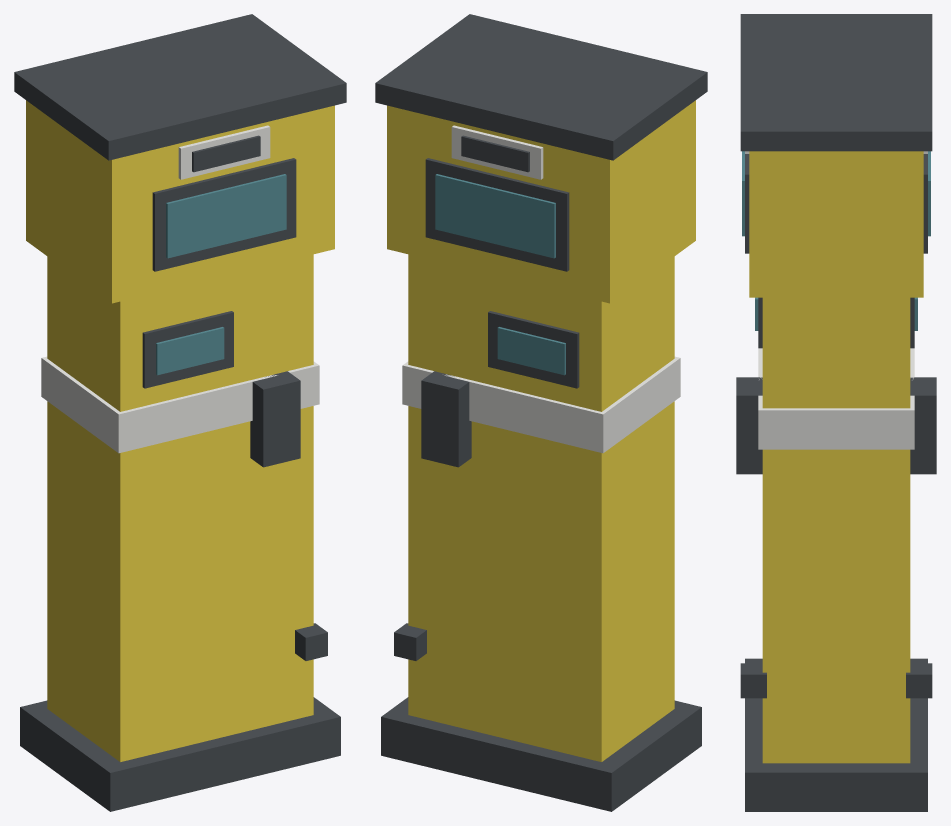
Rendered from fuel-pump-diesel.glb.
3 views of the same model, side by side, from view 1: azimuth 30°, elevation 25°; view 2: azimuth 150°, elevation 25°; view 3: azimuth 270°, elevation 25° (orthographic).
Parts seen in each view (by area): view 1: Prop_FuelPumpDiesel_mesh; view 2: Prop_FuelPumpDiesel_mesh; view 3: Prop_FuelPumpDiesel_mesh.
Boxes of the visible parts, bbox=[...] form: Prop_FuelPumpDiesel_mesh: bbox=[14, 14, 346, 811]; Prop_FuelPumpDiesel_mesh: bbox=[375, 14, 707, 811]; Prop_FuelPumpDiesel_mesh: bbox=[736, 14, 936, 811].
Size of the model in its own units: 0.64 by 1.73 by 0.46.
